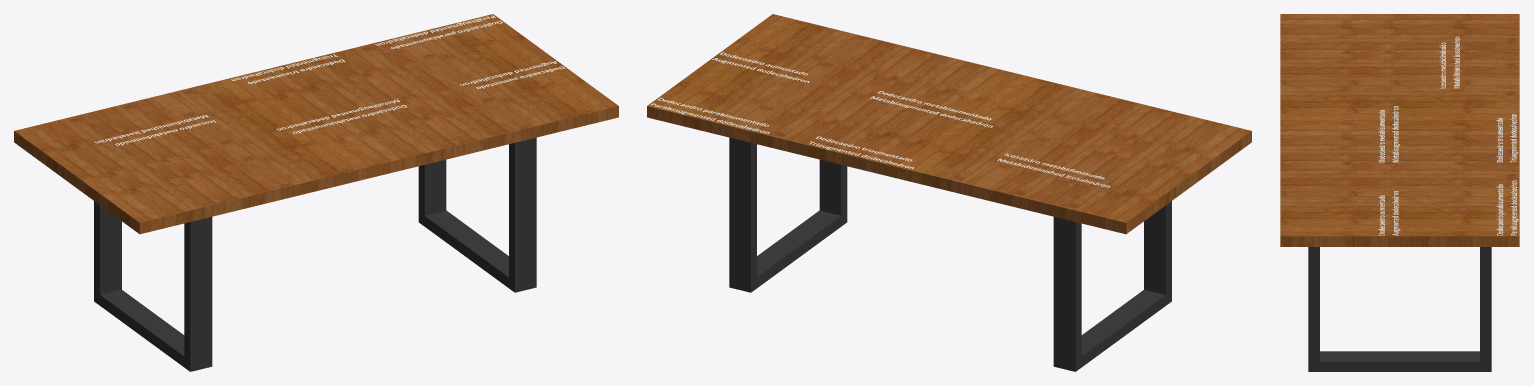
The model's file is johnson2f.glb.
The picture shows the model from 3 angles, left to right: view 1: azimuth 30°, elevation 25°; view 2: azimuth 150°, elevation 25°; view 3: azimuth 270°, elevation 25°; orthographic projection. The views are drawn at different scales.
Visible parts, largest first — view 1: object 1, Composant#1 (×2), Dodecaedro metab, Dodecaedro parab, Icosaedro metabi, Dodecaedro triau; view 2: object 1, Composant#1 (×2), Dodecaedro metab, Dodecaedro parab, Icosaedro metabi, Dodecaedro triau; view 3: object 1, Composant#1, Dodecaedro metab, Dodecaedro parab, Icosaedro metabi, Dodecaedro triau, Dodecaedro aumen.
Part boxes in pixels (bbox=[...]): object 1: bbox=[14, 14, 618, 234]; Composant#1 (×2): bbox=[94, 137, 536, 371]; Dodecaedro metab: bbox=[277, 99, 406, 133]; Dodecaedro parab: bbox=[375, 15, 502, 48]; Icosaedro metabi: bbox=[95, 114, 215, 145]; Dodecaedro triau: bbox=[231, 54, 344, 83]; object 1: bbox=[647, 14, 1251, 234]; Composant#1 (×2): bbox=[729, 137, 1171, 371]; Dodecaedro metab: bbox=[870, 91, 992, 127]; Dodecaedro parab: bbox=[650, 98, 769, 133]; Icosaedro metabi: bbox=[997, 153, 1110, 187]; Dodecaedro triau: bbox=[809, 136, 914, 169]; object 1: bbox=[1280, 14, 1519, 246]; Composant#1: bbox=[1308, 247, 1491, 371]; Dodecaedro metab: bbox=[1378, 106, 1400, 162]; Dodecaedro parab: bbox=[1496, 180, 1518, 235]; Icosaedro metabi: bbox=[1439, 36, 1459, 88]; Dodecaedro triau: bbox=[1496, 114, 1518, 162]; Dodecaedro aumen: bbox=[1378, 191, 1400, 235].
Size of the model in its own units: 2.2 by 0.771 by 1.
3 materials, 1 textured.
